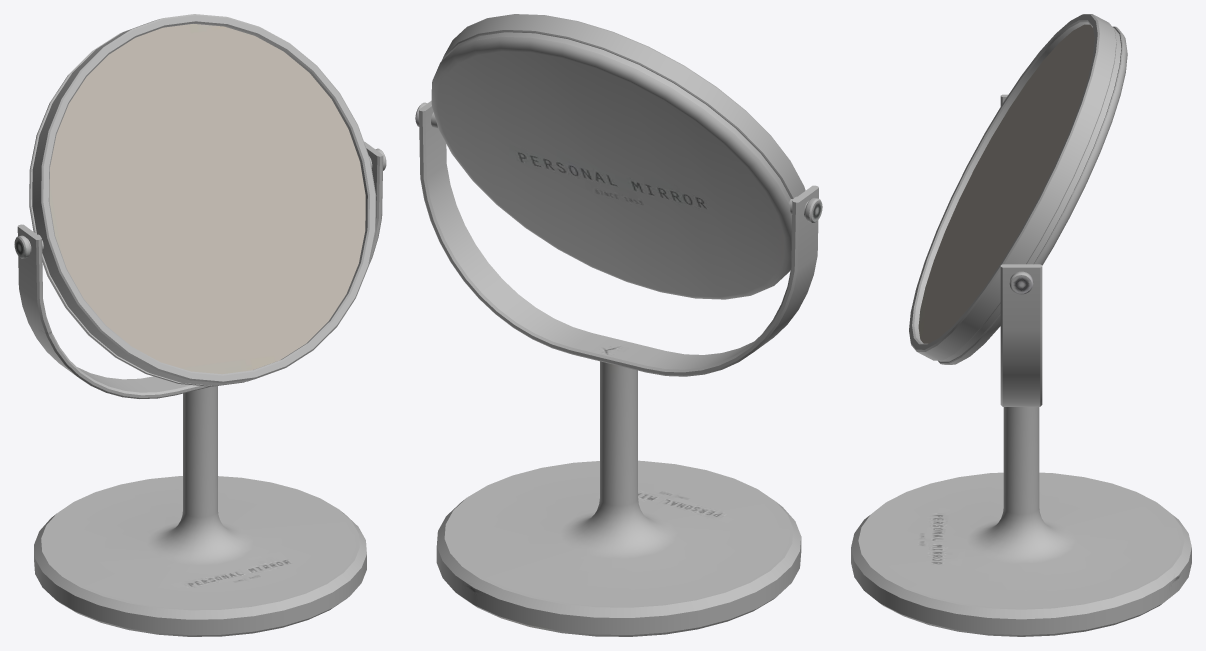
Rendered from table-mirror.glb.
3 renders of one model, left to right at view 1: azimuth 30°, elevation 25°; view 2: azimuth 150°, elevation 25°; view 3: azimuth 270°, elevation 25°, orthographic. The views are drawn at different scales.
Parts seen in each view (by area): view 1: Table_mirror__0; view 2: Table_mirror__0; view 3: Table_mirror__0.
Part boxes in pixels (bbox=[...]): Table_mirror__0: bbox=[14, 14, 386, 636]; Table_mirror__0: bbox=[415, 14, 822, 636]; Table_mirror__0: bbox=[851, 14, 1191, 636].
Size of the model in its own units: 0.2177 by 0.3 by 0.1739.
1 material, 1 textured.
